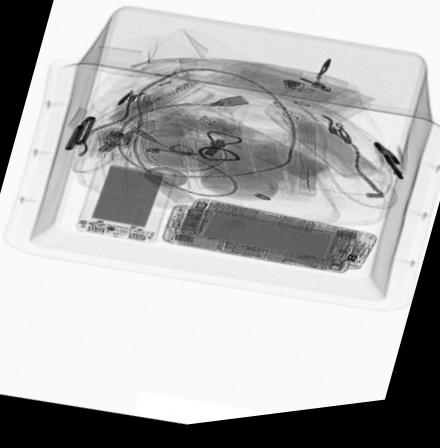Powerbank: (76, 163, 177, 248)
